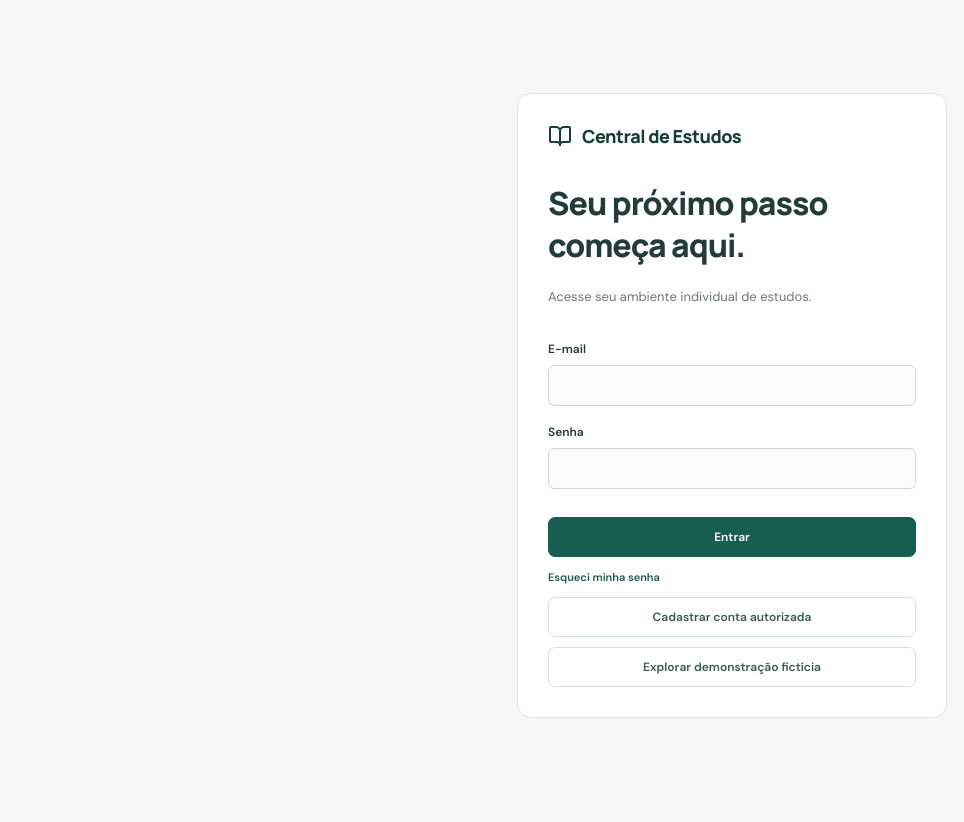
Scenario: mostra falha de login sem abrir a conta e aceita nova tentativa
Type "student@example.test" into the field labelled "E-mail" at (732, 385), box [548,365,916,406]
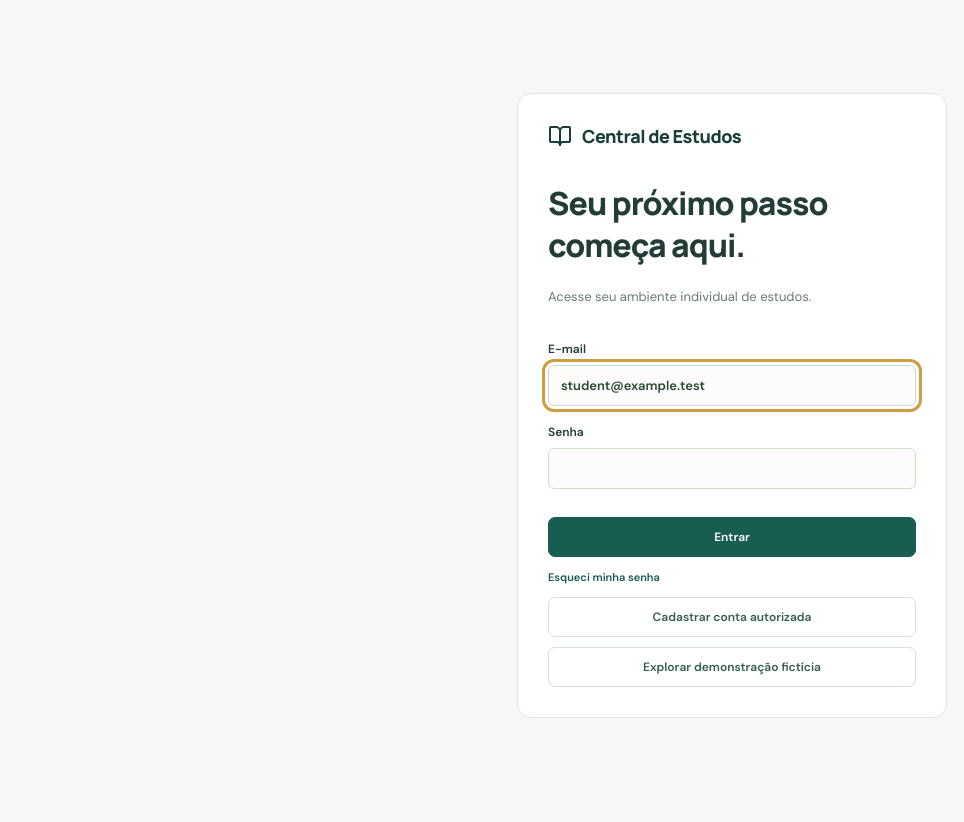
Type "test-password" into the password field labelled "Senha" at (732, 468), box [548,448,916,489]
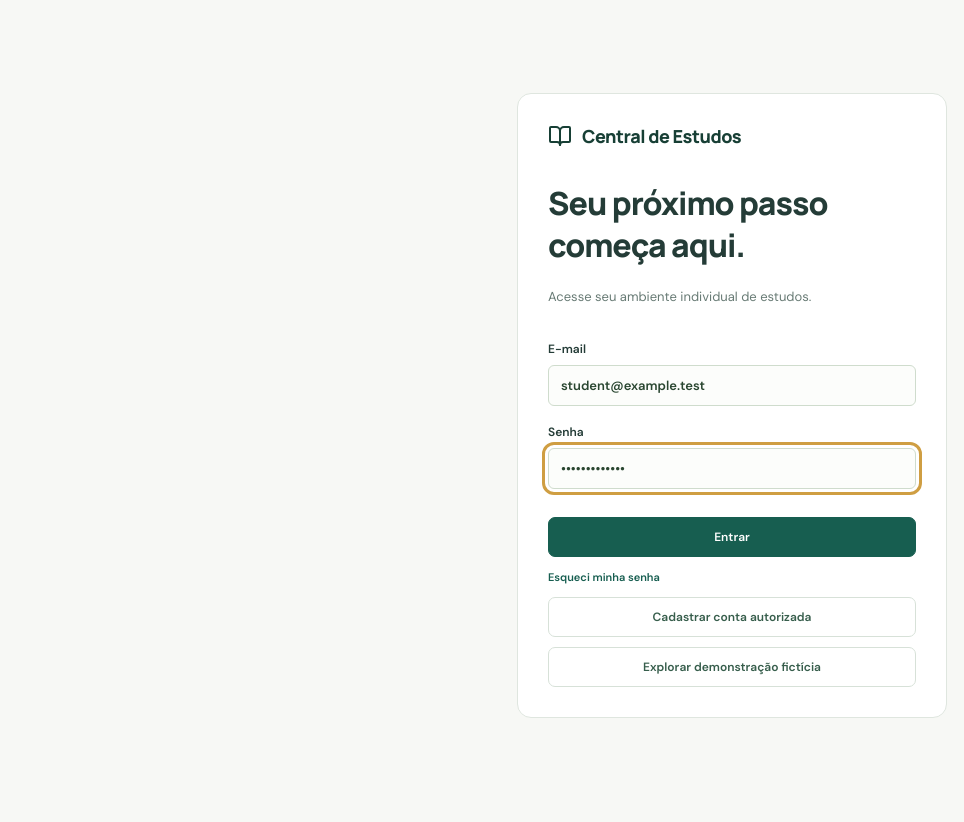
Click the button "Entrar" at (732, 537), box [548,517,916,557]
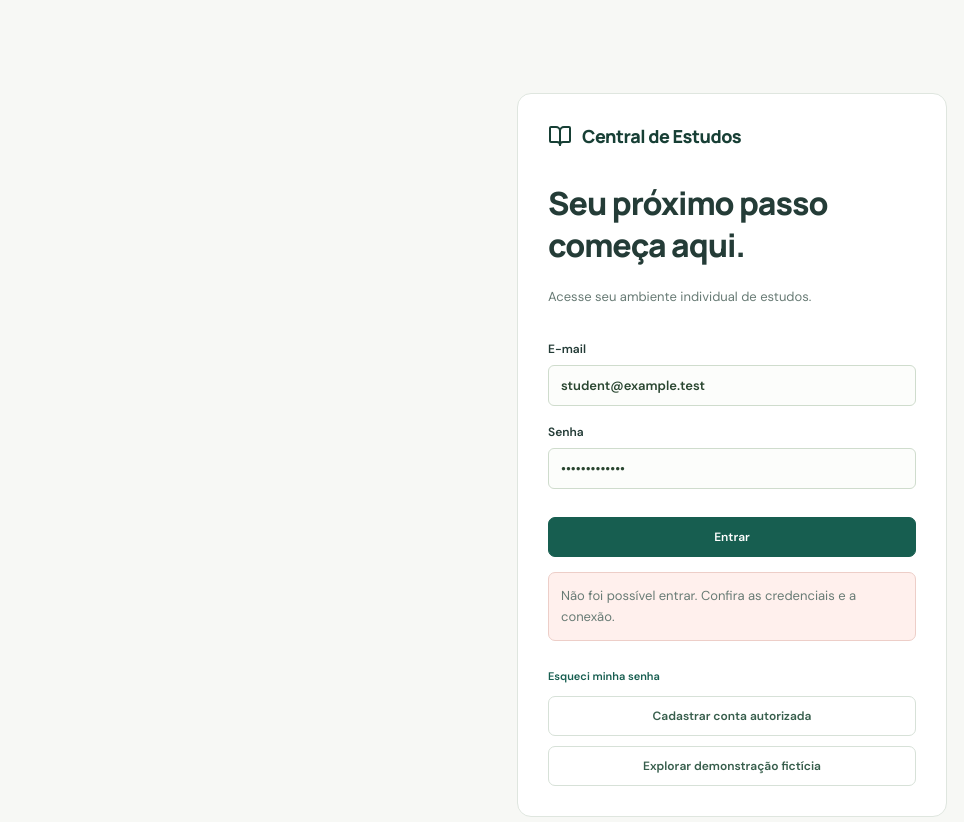
Expected: the text "Conta:" is not shown
Expected: the message shows "Confira as credenciais e a conexão", [561,587,856,625]
Click the button "Entrar" at (732, 537), box [548,517,916,557]
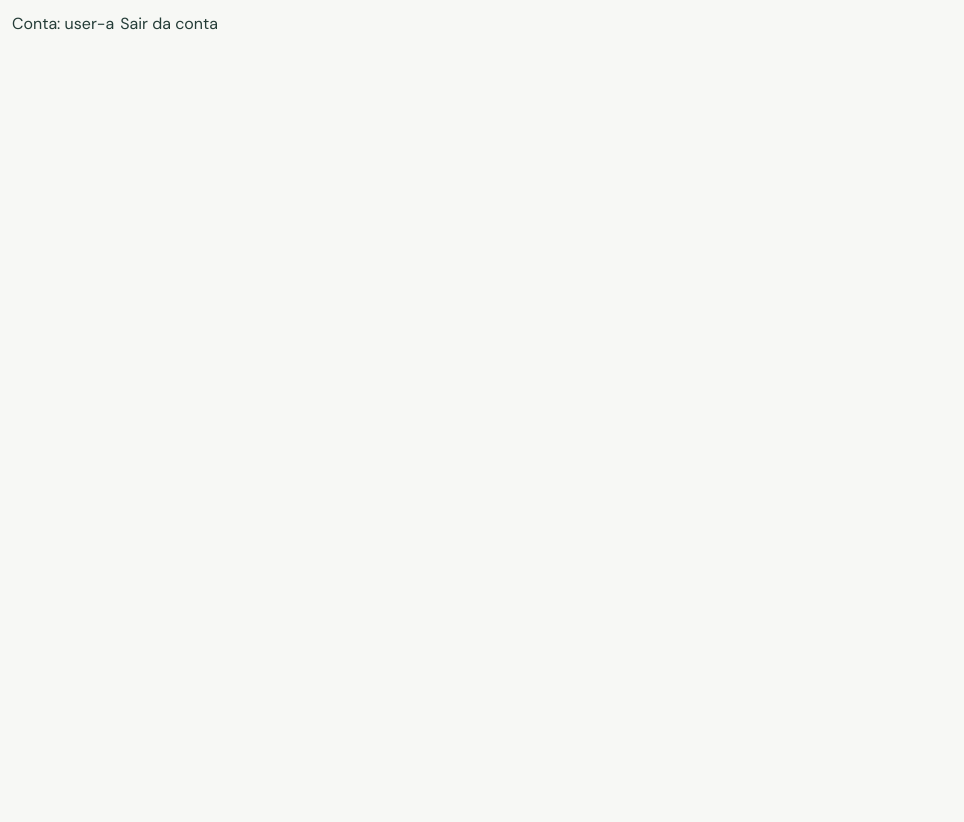
Expected: the text "Conta: user-a" is shown, [12,12,224,35]
